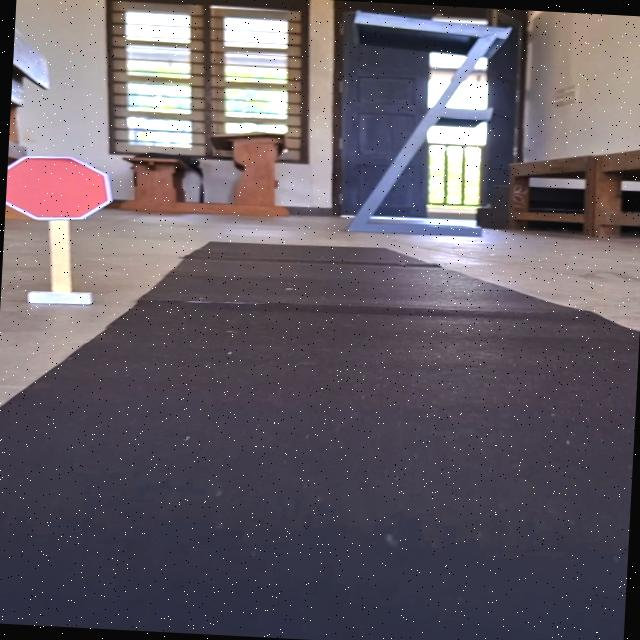Stop: (5, 152, 117, 226)
